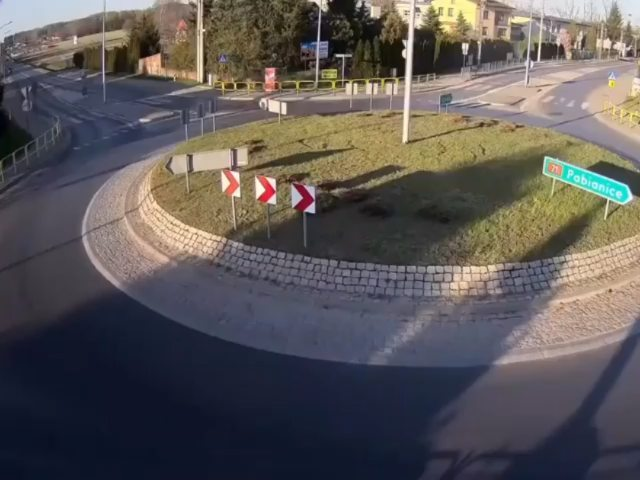building: (432, 6, 516, 52)
grass: (201, 118, 627, 255)
sign: (525, 141, 628, 220), (283, 180, 321, 214), (252, 173, 282, 206), (218, 170, 243, 200)
street: (20, 236, 640, 480), (17, 60, 202, 153), (428, 52, 631, 124)
vegetation: (194, 1, 430, 79)
